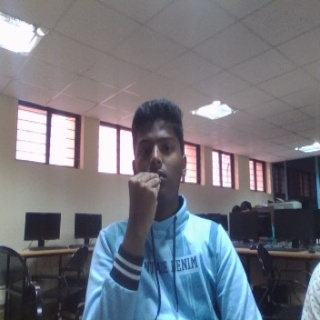Food: (124, 170, 163, 241)
